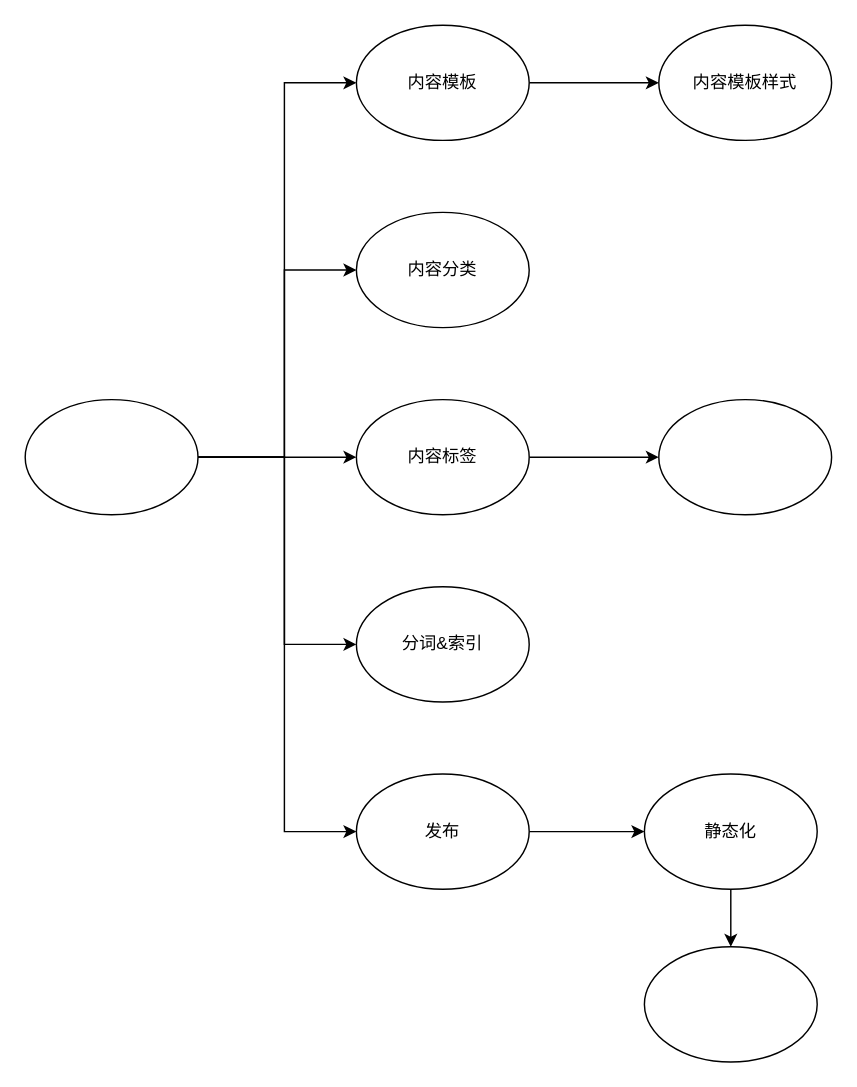
This 857x1087 diagram has some shape labels left out. Each missing label, with the centre of its shape:
"内容" belongs at [111,456].
"模板引擎" belongs at [730,1003].
"近似度分析" belongs at [744,456].
